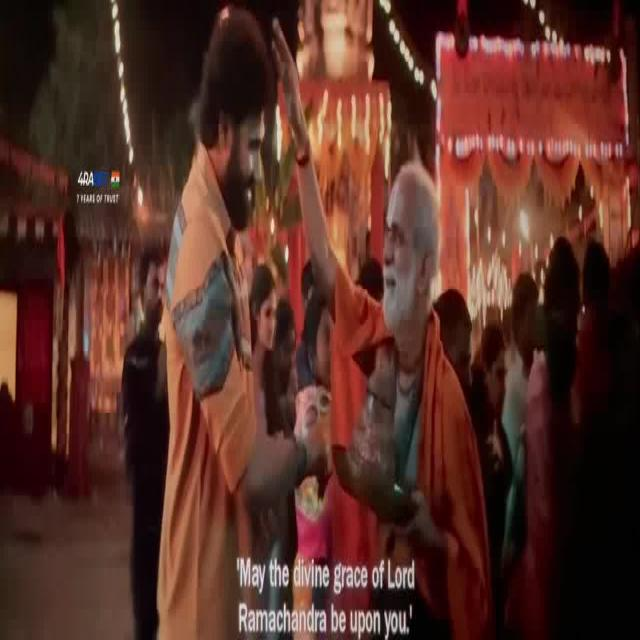4rabet: (72, 156, 122, 218)
